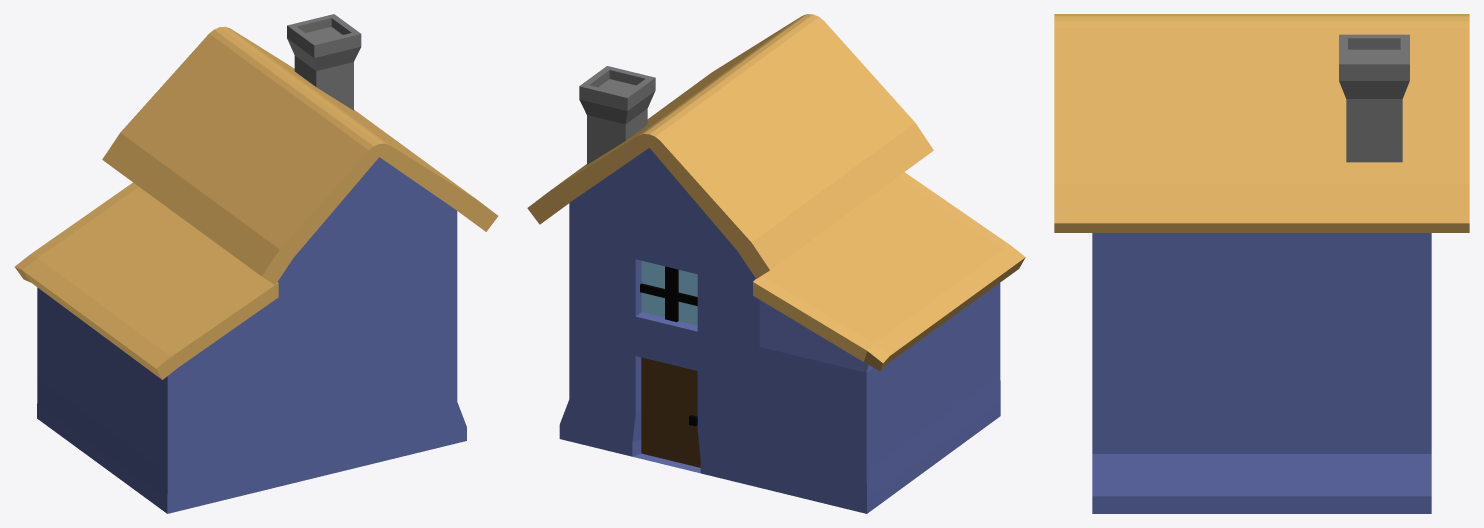
The model's file is house2.fbx.
The picture shows the model from 3 angles, left to right: view 1: azimuth 30°, elevation 25°; view 2: azimuth 150°, elevation 25°; view 3: azimuth 270°, elevation 25°; orthographic projection. The views are drawn at different scales.
Visible parts, largest first — view 1: House, Roof, Smoke pipe; view 2: House, Roof, Smoke pipe; view 3: House, Roof, Smoke pipe.
Part boxes in pixels (box(x1,y1,x2,y2)): House: box(14, 157, 466, 513); Roof: box(102, 26, 497, 284); Smoke pipe: box(287, 14, 361, 110); House: box(559, 148, 1025, 513); Roof: box(527, 14, 933, 278); Smoke pipe: box(579, 66, 655, 164); House: box(1092, 233, 1431, 513); Roof: box(1054, 14, 1469, 232); Smoke pipe: box(1339, 34, 1409, 162).
Bounding box in the file's own units: 1784 × 1729 × 1470.
